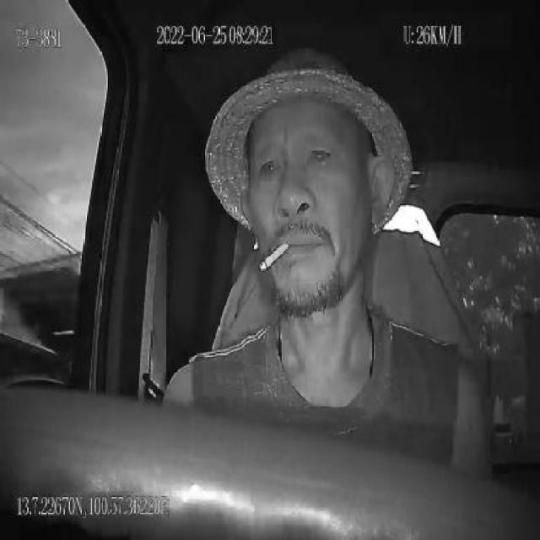smoking: (260, 243, 289, 271)
